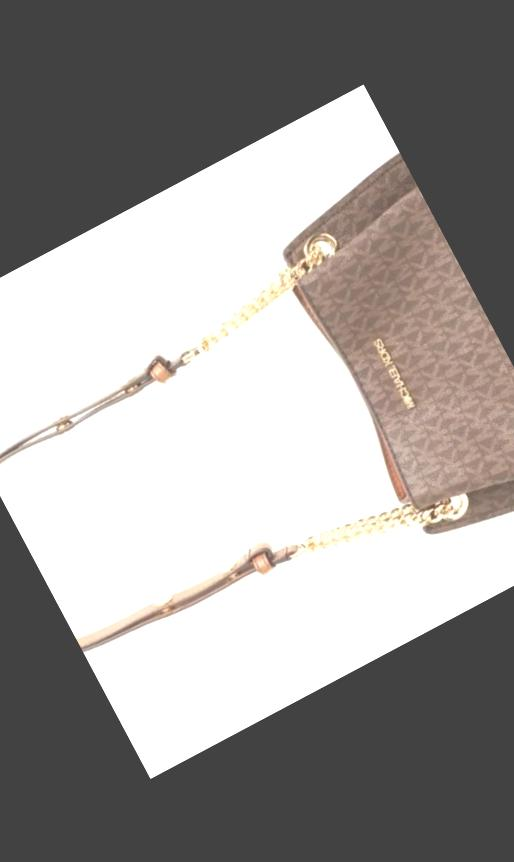MICHAEL-KORS: (371, 336, 417, 410)
